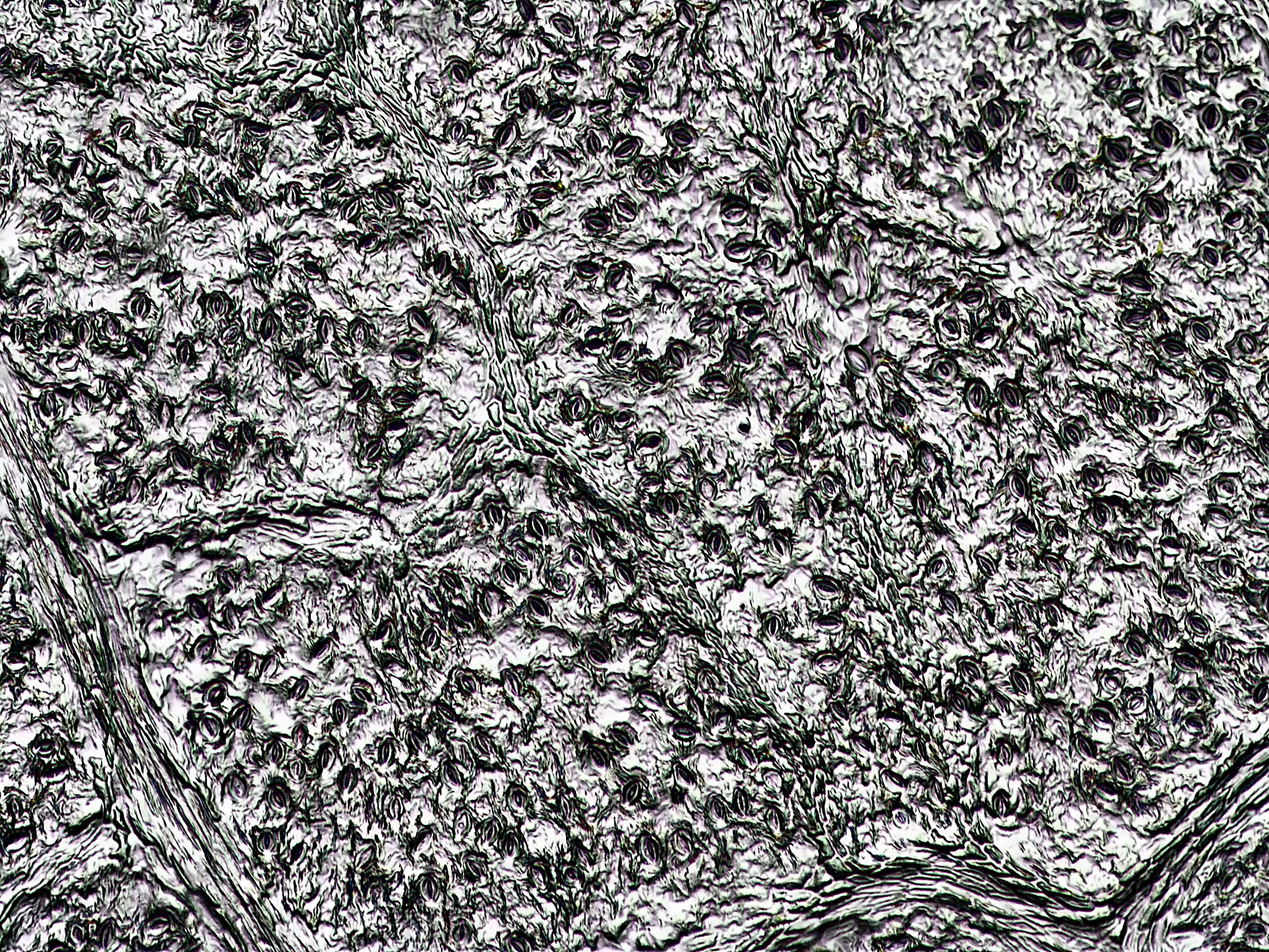stomata: (1158, 69, 1188, 104), (1149, 117, 1179, 150), (847, 105, 873, 142), (964, 380, 990, 416), (1102, 138, 1129, 172), (1198, 101, 1225, 134), (636, 832, 663, 865), (720, 194, 750, 223), (666, 122, 697, 150), (1008, 22, 1036, 53), (844, 345, 872, 376), (1119, 272, 1156, 295), (1141, 194, 1169, 224), (915, 441, 938, 477), (809, 575, 845, 598), (1052, 11, 1086, 35), (1200, 357, 1229, 385), (996, 381, 1024, 410), (1237, 133, 1268, 159), (1167, 21, 1189, 57), (1071, 42, 1099, 70), (612, 136, 642, 162), (480, 586, 506, 616), (197, 712, 223, 742), (266, 783, 291, 814), (1160, 582, 1193, 605), (201, 679, 228, 707), (705, 528, 730, 558), (983, 99, 1006, 131), (348, 318, 371, 350), (931, 357, 960, 382), (1173, 650, 1203, 674), (812, 650, 842, 674), (634, 432, 664, 456), (674, 0, 697, 31), (439, 761, 463, 790), (406, 727, 430, 756), (812, 614, 845, 635), (586, 744, 609, 774), (229, 701, 251, 732), (548, 12, 574, 38), (925, 551, 951, 577), (145, 914, 172, 939), (1110, 756, 1134, 784), (1088, 705, 1116, 729), (852, 628, 873, 660), (1221, 161, 1250, 184), (1155, 614, 1178, 643), (97, 917, 116, 952), (452, 809, 472, 842), (507, 783, 528, 814), (1060, 420, 1085, 446), (551, 61, 578, 85), (767, 534, 791, 561), (761, 612, 785, 639), (408, 308, 431, 336), (169, 447, 192, 475), (672, 828, 695, 856), (737, 300, 766, 322), (833, 33, 855, 62), (882, 666, 904, 695), (803, 490, 825, 519), (392, 347, 421, 369), (527, 595, 549, 624), (245, 246, 275, 267), (72, 316, 93, 346), (336, 763, 357, 793), (762, 225, 787, 250), (373, 186, 397, 212), (1091, 501, 1115, 527), (880, 769, 906, 793), (746, 175, 773, 198), (771, 435, 798, 458), (695, 476, 718, 503), (566, 544, 589, 571), (354, 843, 377, 870), (1059, 165, 1079, 196), (261, 311, 281, 342), (724, 239, 752, 261), (860, 16, 882, 44), (1204, 506, 1232, 528), (502, 669, 524, 697), (501, 830, 519, 864), (497, 121, 517, 151), (991, 788, 1011, 818), (284, 294, 309, 318), (479, 817, 499, 847), (973, 327, 999, 350), (315, 315, 335, 344), (419, 873, 439, 902), (309, 101, 332, 126), (1080, 467, 1103, 492), (1157, 535, 1183, 557), (725, 342, 751, 364), (526, 865, 548, 891), (964, 126, 985, 153), (737, 742, 758, 769), (72, 387, 93, 414), (1009, 471, 1029, 499), (124, 475, 144, 503), (452, 919, 472, 947), (913, 487, 931, 518), (1210, 406, 1234, 429), (1182, 434, 1205, 458), (761, 768, 784, 792), (186, 597, 209, 621), (1102, 8, 1131, 27), (1075, 731, 1094, 760), (765, 806, 784, 835), (23, 53, 45, 78), (635, 159, 657, 184), (939, 590, 961, 615), (320, 172, 346, 193), (448, 60, 469, 86), (585, 646, 611, 667), (308, 639, 334, 660), (258, 654, 279, 680), (227, 773, 248, 799), (1124, 309, 1151, 329), (588, 413, 608, 440), (691, 313, 718, 333), (421, 624, 441, 651), (207, 291, 226, 319), (203, 466, 222, 494), (222, 606, 241, 634), (232, 649, 251, 677), (894, 167, 917, 190), (464, 857, 487, 880), (40, 201, 62, 225), (567, 394, 589, 418), (350, 379, 372, 403), (194, 637, 216, 661), (284, 90, 305, 115), (341, 196, 362, 221), (1109, 214, 1130, 239), (1147, 462, 1168, 487), (528, 514, 549, 539), (378, 737, 396, 766), (750, 501, 770, 527), (383, 419, 409, 439), (39, 390, 58, 417), (558, 790, 573, 824), (88, 201, 111, 223), (1144, 727, 1167, 749), (1095, 780, 1118, 802), (958, 660, 981, 682), (105, 380, 128, 402), (1161, 337, 1189, 355), (658, 492, 679, 516), (198, 384, 226, 402), (64, 229, 84, 254), (1009, 669, 1029, 694), (130, 293, 150, 318), (32, 738, 57, 758), (68, 922, 88, 947), (176, 339, 195, 365), (43, 318, 62, 344), (927, 776, 944, 805), (156, 399, 174, 426), (1184, 712, 1206, 734), (612, 341, 634, 363), (1124, 636, 1145, 659), (562, 865, 583, 888), (1200, 243, 1220, 267), (888, 460, 904, 490), (639, 472, 663, 492), (56, 352, 80, 372), (733, 787, 750, 815), (319, 743, 336, 771), (291, 722, 308, 750), (819, 472, 838, 497), (995, 740, 1014, 765), (558, 303, 577, 328), (500, 561, 519, 586), (158, 271, 183, 290), (349, 686, 374, 705), (1176, 687, 1202, 705), (96, 452, 122, 470), (614, 607, 640, 625), (613, 199, 635, 220), (440, 569, 461, 591), (217, 567, 238, 589), (638, 691, 660, 712), (1222, 210, 1245, 230), (1214, 479, 1237, 499), (669, 346, 689, 369), (656, 282, 679, 302), (519, 210, 539, 233), (263, 584, 283, 607), (435, 703, 458, 723), (704, 376, 731, 393), (1014, 518, 1038, 537), (713, 710, 732, 734), (377, 619, 396, 643), (288, 757, 307, 781), (265, 740, 284, 764), (245, 121, 270, 139), (627, 53, 652, 71), (272, 437, 290, 462), (623, 779, 641, 804), (434, 252, 450, 280), (186, 181, 203, 207), (519, 85, 536, 111), (1102, 388, 1119, 414), (1121, 536, 1138, 562), (613, 564, 634, 585), (1043, 555, 1063, 577), (890, 397, 910, 419), (610, 727, 632, 747), (451, 605, 473, 625), (993, 299, 1012, 322), (976, 554, 995, 577), (851, 736, 874, 755), (220, 178, 238, 202), (1238, 333, 1256, 357), (960, 291, 984, 309), (672, 723, 696, 741), (356, 234, 380, 252), (7, 793, 23, 820), (548, 102, 568, 123), (1191, 321, 1211, 342), (948, 692, 969, 712), (513, 544, 533, 565), (450, 277, 470, 298), (226, 34, 248, 53), (1027, 634, 1046, 656), (608, 268, 627, 290), (102, 316, 121, 338), (257, 831, 276, 853), (284, 184, 300, 210), (241, 152, 259, 175), (1221, 870, 1239, 893), (576, 262, 599, 280), (290, 841, 308, 864), (144, 146, 161, 170), (595, 34, 619, 51), (1189, 616, 1209, 636), (239, 420, 255, 445), (1101, 675, 1122, 694), (676, 766, 695, 787), (68, 156, 86, 178), (534, 36, 556, 54), (1147, 404, 1165, 426), (459, 673, 477, 695), (415, 830, 433, 852), (183, 124, 200, 147), (94, 173, 117, 190), (1017, 602, 1034, 625), (606, 307, 629, 324), (1112, 44, 1136, 60), (941, 319, 960, 339), (638, 366, 657, 386), (221, 324, 240, 344), (211, 435, 231, 454), (585, 215, 607, 232), (1244, 923, 1267, 939), (391, 392, 417, 406), (130, 336, 149, 355), (1123, 94, 1143, 112), (1217, 558, 1235, 578), (892, 808, 910, 828), (485, 505, 503, 525), (364, 440, 382, 460), (475, 733, 493, 753), (389, 794, 404, 818), (530, 188, 552, 204), (333, 700, 347, 725), (449, 122, 467, 141), (1128, 694, 1145, 714), (1216, 642, 1233, 662), (291, 679, 308, 699), (587, 130, 601, 154), (709, 798, 725, 819), (587, 526, 603, 547), (634, 633, 658, 647), (971, 73, 989, 91), (303, 260, 321, 278), (322, 134, 342, 150), (615, 411, 635, 427), (688, 694, 703, 715), (1131, 405, 1145, 427), (622, 82, 640, 99), (830, 702, 848, 719), (285, 356, 303, 373), (470, 5, 489, 21), (94, 252, 113, 268), (196, 101, 216, 116), (116, 120, 133, 137), (589, 102, 611, 115), (915, 738, 927, 761), (1104, 74, 1120, 91), (1052, 524, 1067, 541), (230, 13, 251, 25)
